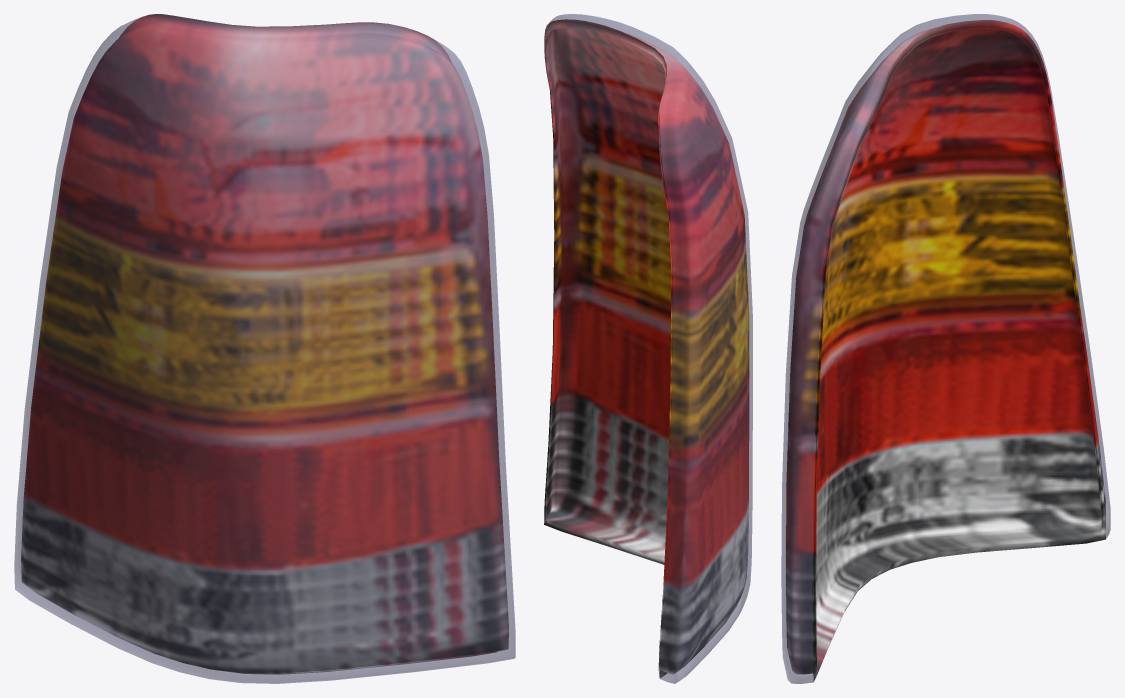
3 renders of one model, left to right at view 1: azimuth 30°, elevation 25°; view 2: azimuth 150°, elevation 25°; view 3: azimuth 270°, elevation 25°, orthographic. The views are drawn at different scales.
Visible parts, largest first — view 1: P710_541C_R_2_DTaSI_P710_541C_R, P710_541C_R_P710_541C_R_1_N; view 2: P710_541C_R_P710_541C_R_1_N, P710_541C_R_2_DTaSI_P710_541C_R; view 3: P710_541C_R_P710_541C_R_1_N, P710_541C_R_2_DTaSI_P710_541C_R.
Part boxes in pixels (left/top/right/bottom): P710_541C_R_2_DTaSI_P710_541C_R: left=14, top=14, right=515, bottom=683; P710_541C_R_P710_541C_R_1_N: left=21, top=14, right=508, bottom=674; P710_541C_R_P710_541C_R_1_N: left=544, top=19, right=749, bottom=678; P710_541C_R_2_DTaSI_P710_541C_R: left=549, top=14, right=752, bottom=683; P710_541C_R_P710_541C_R_1_N: left=786, top=20, right=1106, bottom=681; P710_541C_R_2_DTaSI_P710_541C_R: left=781, top=14, right=1110, bottom=683.
Bounding box in the file's own units: 20.44 × 37.31 × 19.69.
